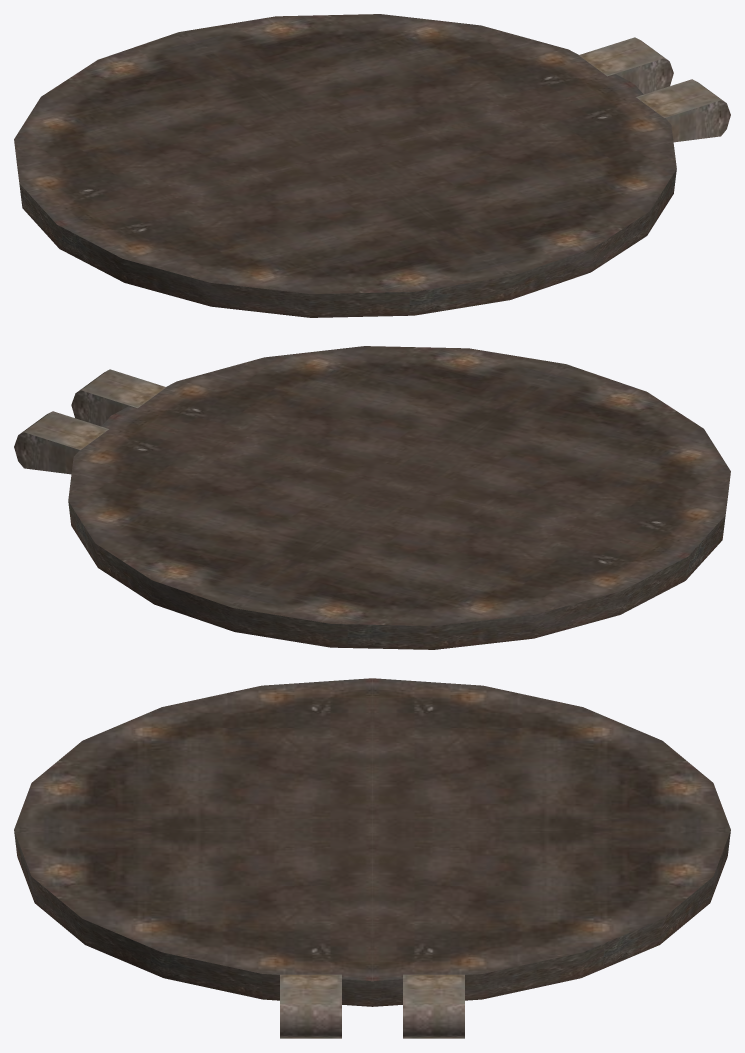
File: prop_door_metal_hatch.glb
3 renders of one model, top to bottom at view 1: azimuth 30°, elevation 25°; view 2: azimuth 150°, elevation 25°; view 3: azimuth 270°, elevation 25°, orthographic. The views are drawn at different scales.
Bounding box in the file's own units: 83.21 × 16.04 × 76.09.
1 material, 1 textured.
